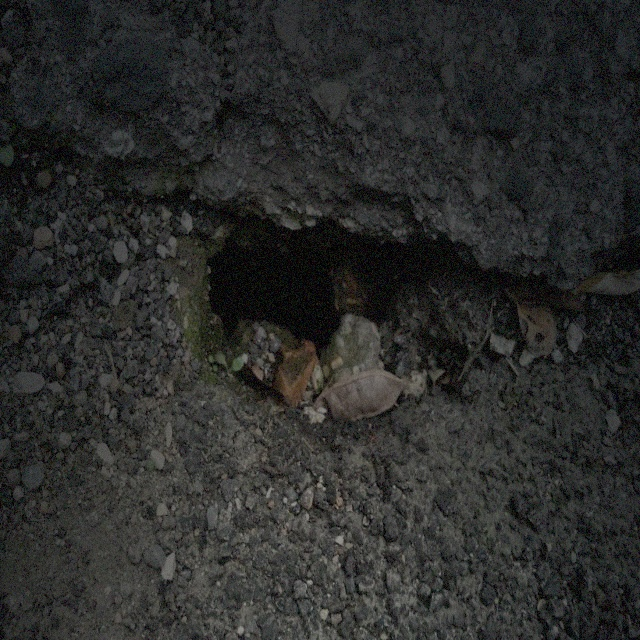pothole: (178, 170, 550, 437)
